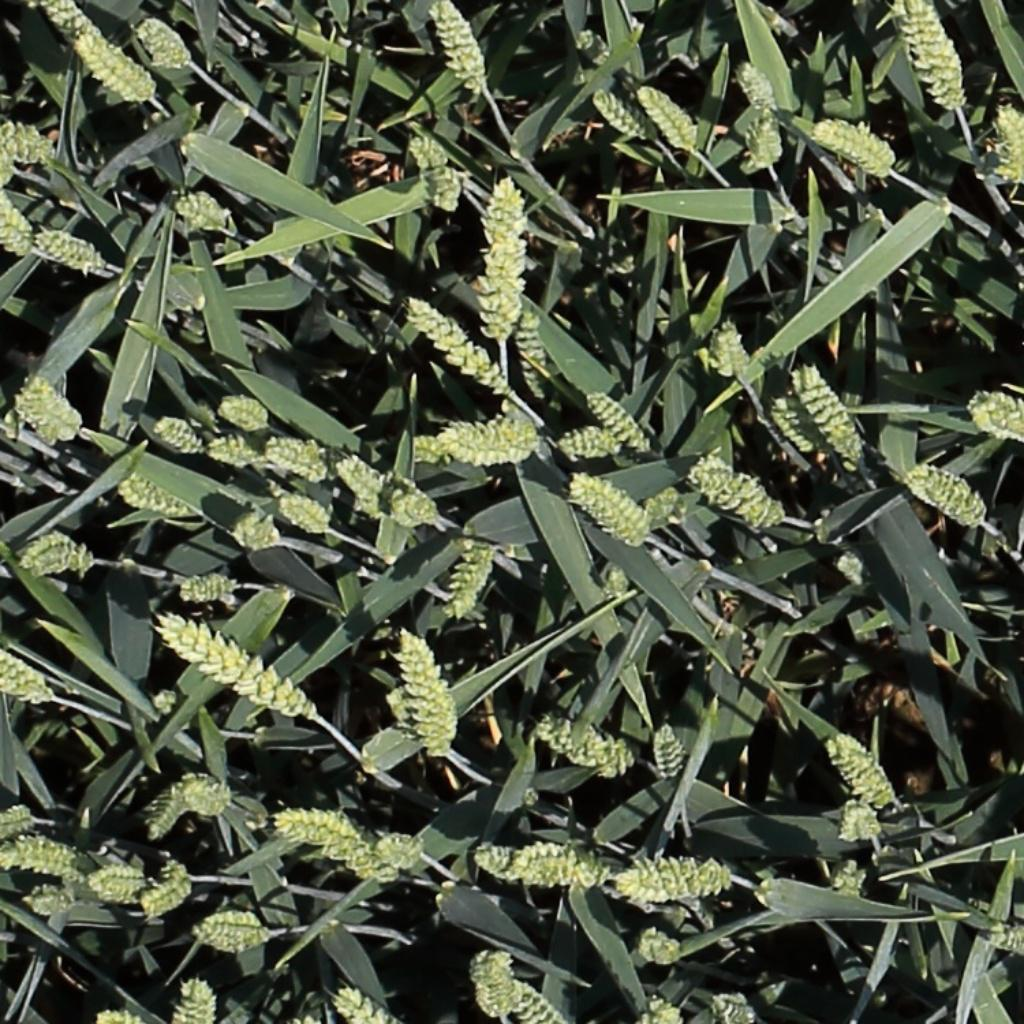0-0: (155, 612, 314, 720), (404, 294, 513, 394), (479, 173, 529, 342), (892, 0, 966, 114), (680, 452, 793, 526), (818, 722, 901, 811), (535, 704, 637, 776), (798, 359, 865, 465), (608, 854, 740, 904), (805, 116, 899, 185), (438, 415, 550, 472), (400, 632, 447, 757), (470, 839, 593, 886), (570, 475, 649, 544), (434, 0, 490, 96), (380, 683, 459, 751), (19, 372, 94, 442), (75, 35, 152, 102), (12, 526, 97, 584), (636, 79, 701, 154), (909, 465, 987, 527), (268, 805, 369, 852), (587, 387, 655, 456), (465, 946, 524, 1022), (0, 831, 86, 883), (320, 832, 407, 882), (185, 907, 271, 956), (168, 188, 243, 244), (771, 393, 831, 460), (963, 386, 1024, 451), (449, 529, 492, 619), (32, 229, 109, 277), (220, 499, 285, 555), (517, 305, 554, 402), (88, 863, 160, 912), (334, 456, 389, 517), (375, 474, 442, 524), (40, 0, 102, 53), (593, 88, 656, 140), (0, 180, 40, 261), (118, 476, 196, 517), (505, 978, 574, 1024), (735, 55, 785, 118), (559, 422, 624, 469), (143, 785, 192, 846), (623, 979, 689, 1024), (135, 16, 192, 68), (264, 434, 329, 479), (269, 487, 331, 533), (334, 985, 406, 1024), (168, 970, 220, 1024), (716, 314, 755, 385), (992, 95, 1024, 181), (0, 647, 50, 701), (631, 925, 687, 972), (0, 118, 64, 159), (823, 851, 870, 906), (138, 880, 201, 921), (22, 884, 82, 927), (418, 157, 463, 213), (175, 570, 241, 607), (842, 794, 880, 849), (206, 434, 264, 470), (374, 831, 425, 871), (154, 416, 206, 454), (655, 718, 682, 787), (0, 802, 47, 841), (757, 98, 782, 169), (408, 129, 449, 172), (836, 550, 873, 593), (218, 400, 271, 428), (180, 785, 232, 812), (155, 852, 193, 888), (603, 561, 630, 606), (712, 996, 755, 1022), (0, 129, 17, 190), (987, 925, 1024, 952), (96, 1011, 143, 1024)
